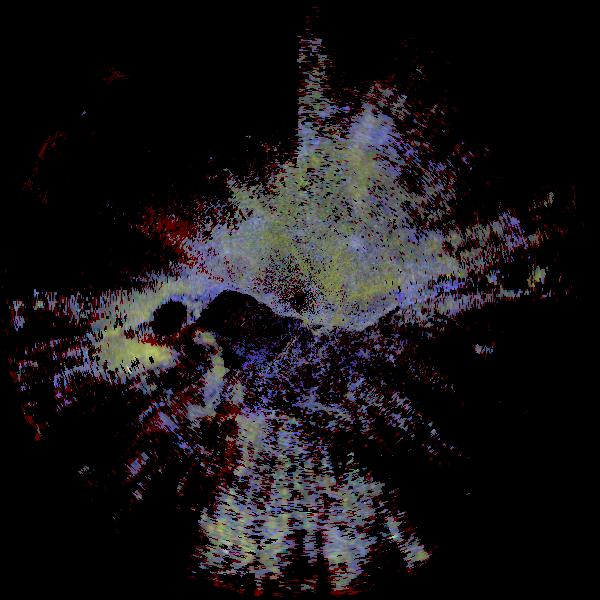roost: (139, 316, 235, 412)
